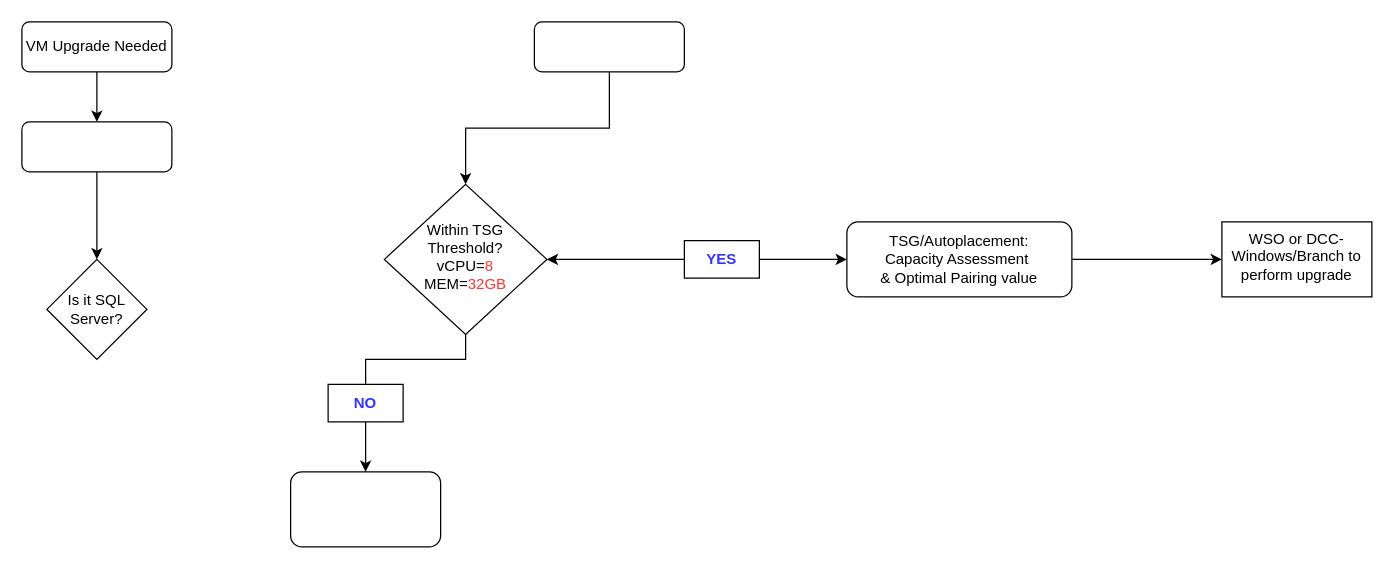
Some shapes in this 1394 by 569 pixel diagram are drawn without their labels. The shapes that lost their labels are listed below. From the top down, each one's box as (x1, y1, x2, y2) in pixels, then its label:
(533, 21, 684, 72): New VM request
(21, 121, 172, 172): Reguest to TSG
(289, 471, 441, 547): Collect Information Vendor documentation / vROPs/Logs
